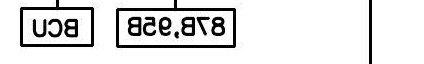BCU: (19, 6, 95, 48)
